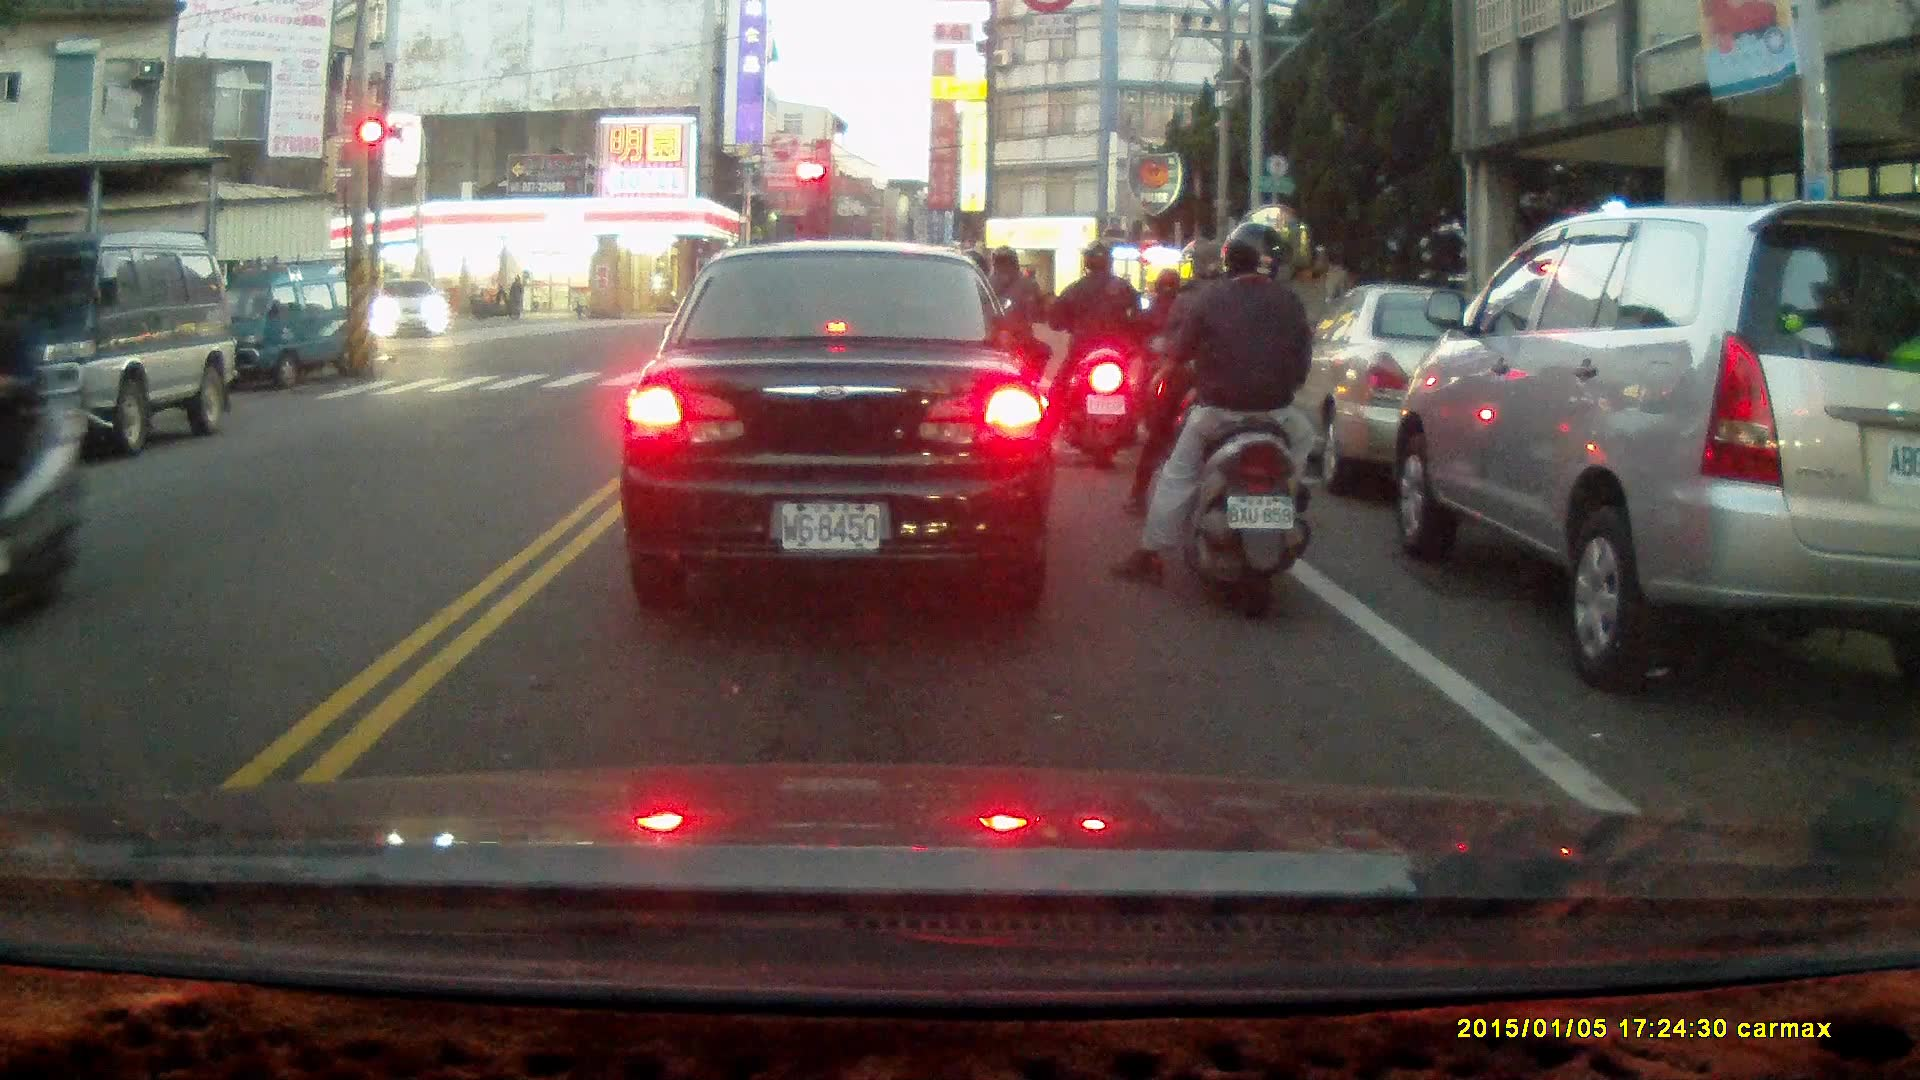pedestrian: (497, 272, 520, 316)
rider: (1108, 220, 1319, 622), (1124, 235, 1258, 534), (0, 228, 87, 636), (1048, 243, 1141, 469), (964, 245, 1050, 446), (1133, 268, 1203, 449)
vehicle: (1391, 195, 1920, 685), (617, 243, 1061, 606), (1268, 282, 1546, 498), (1, 234, 239, 458), (194, 255, 381, 393), (372, 277, 451, 343)
